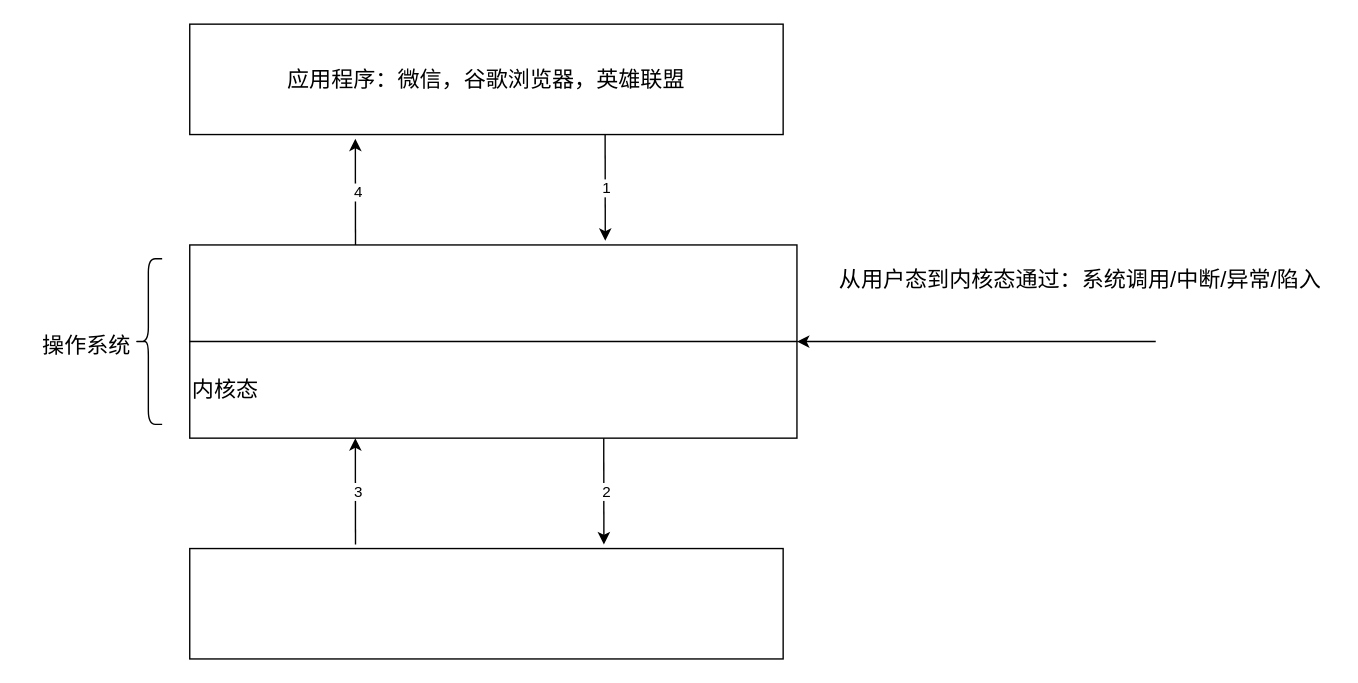
This 1358x683 diagram has some shape labels left out. The box of each missing label's shape, as (x1, y1, x2, y2) in pixels:
用户态: (188, 244, 797, 342)
计算机硬件系统：磁盘，网卡，内存: (188, 547, 783, 659)
